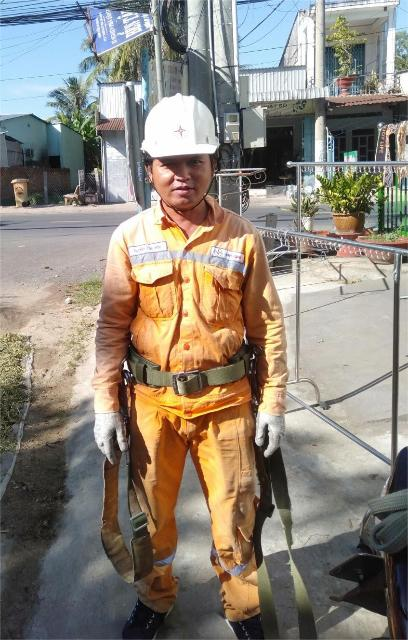gloves: (242, 394, 304, 467), (78, 399, 125, 476)
harness: (120, 329, 264, 393)
helmet: (106, 90, 244, 171)
shoes: (216, 583, 312, 640), (111, 579, 181, 639)
